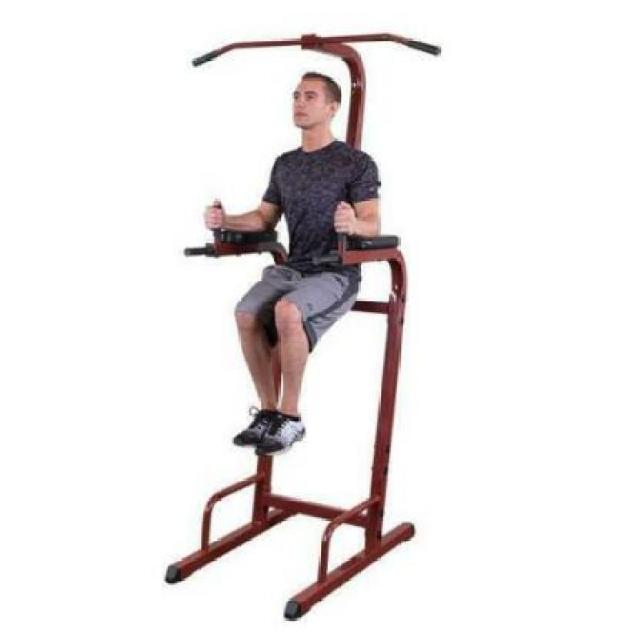chinning dipping: (165, 31, 442, 617)
